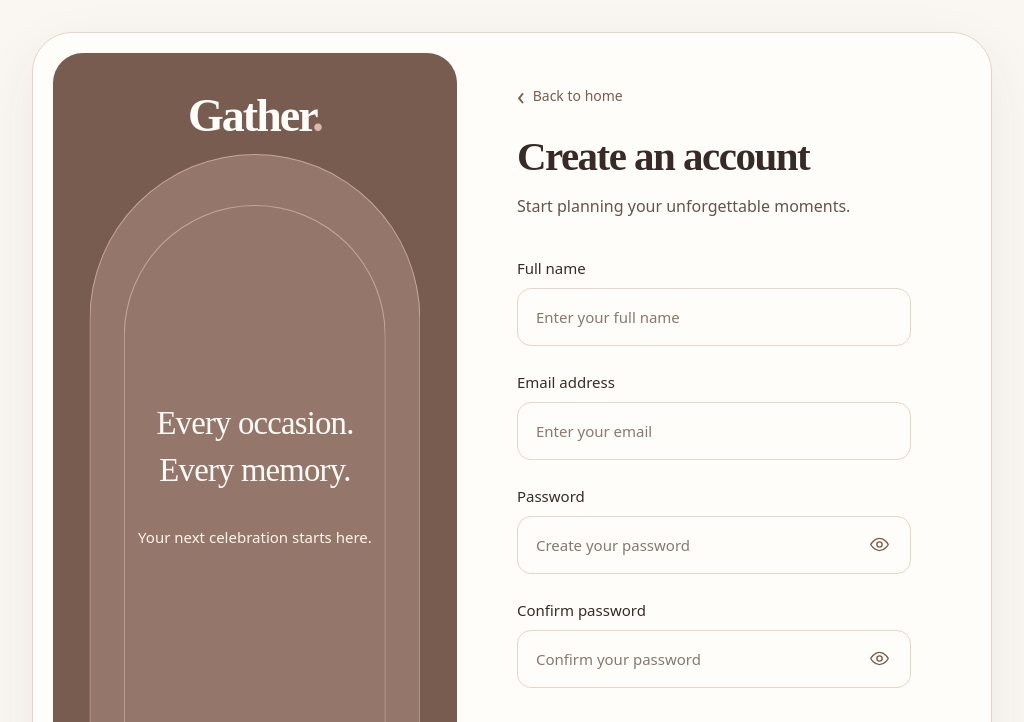
Registration form › rejects mismatched passwords
Type "Test User" into the field labelled "Full name" at {"x": 714, "y": 317}, box [517, 288, 911, 346]
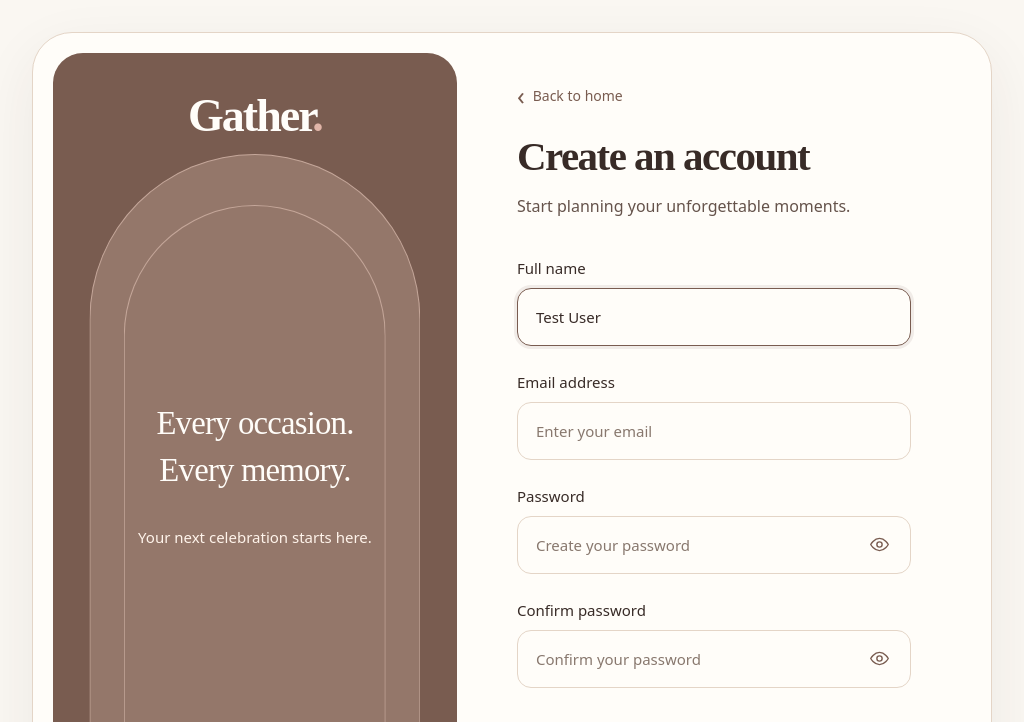
Type "test@example.com" into the field labelled "Email address" at {"x": 714, "y": 431}, box [517, 402, 911, 460]
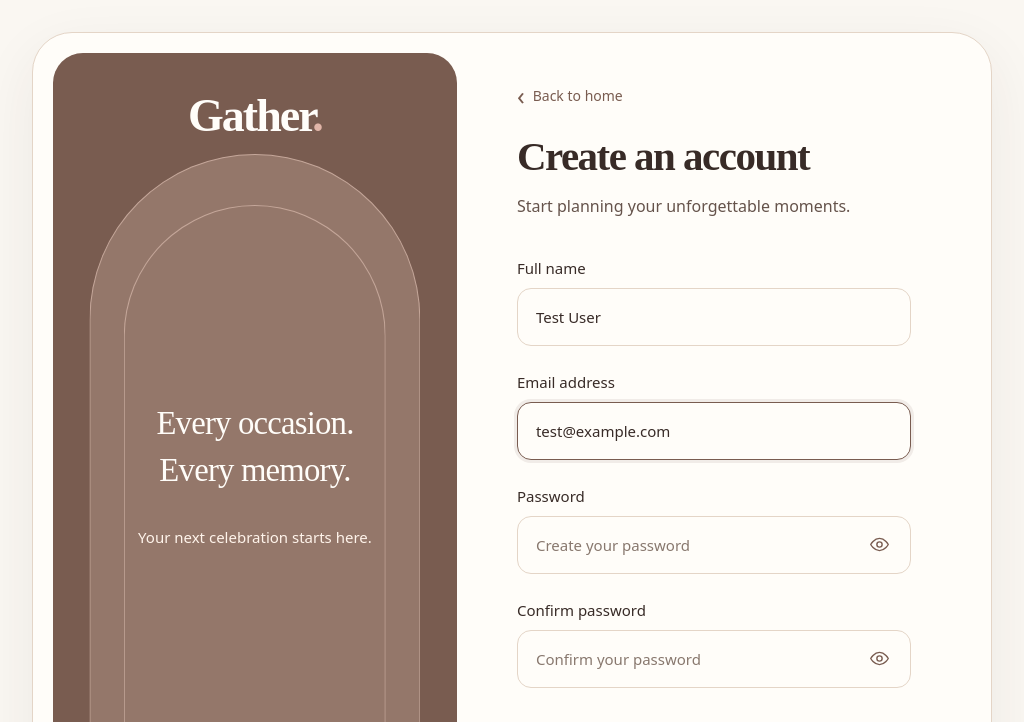
Type "Test1234" into the password field labelled "Password" at {"x": 714, "y": 545}, box [517, 516, 911, 574]
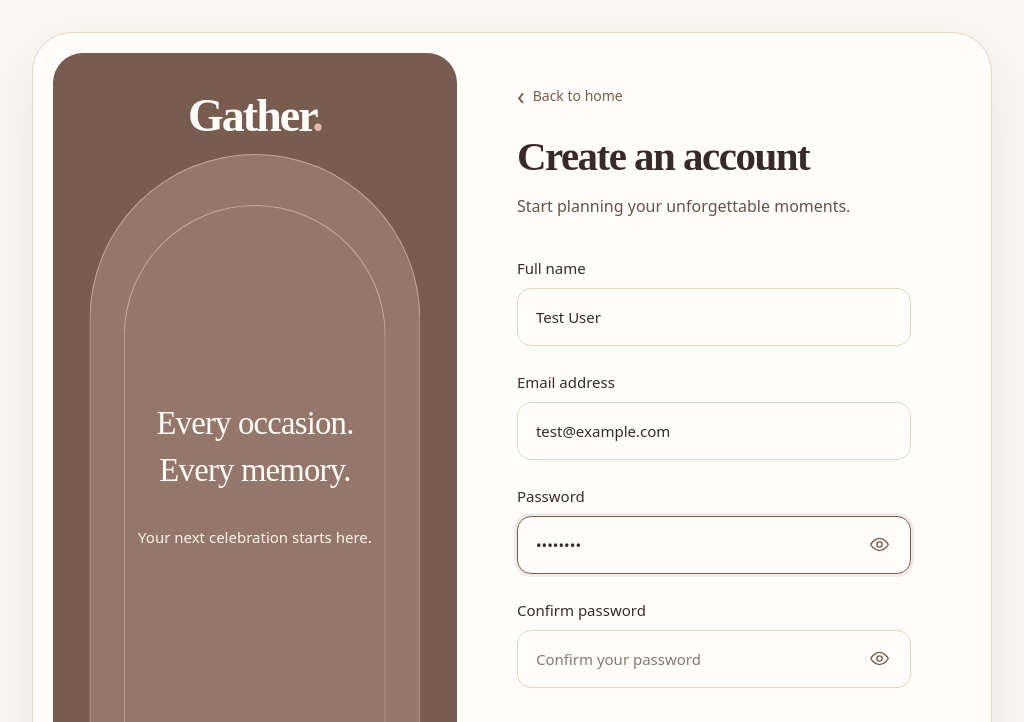
Type "Different123" into the password field labelled "Confirm password" at {"x": 714, "y": 659}, box [517, 630, 911, 688]
(page scrolled)
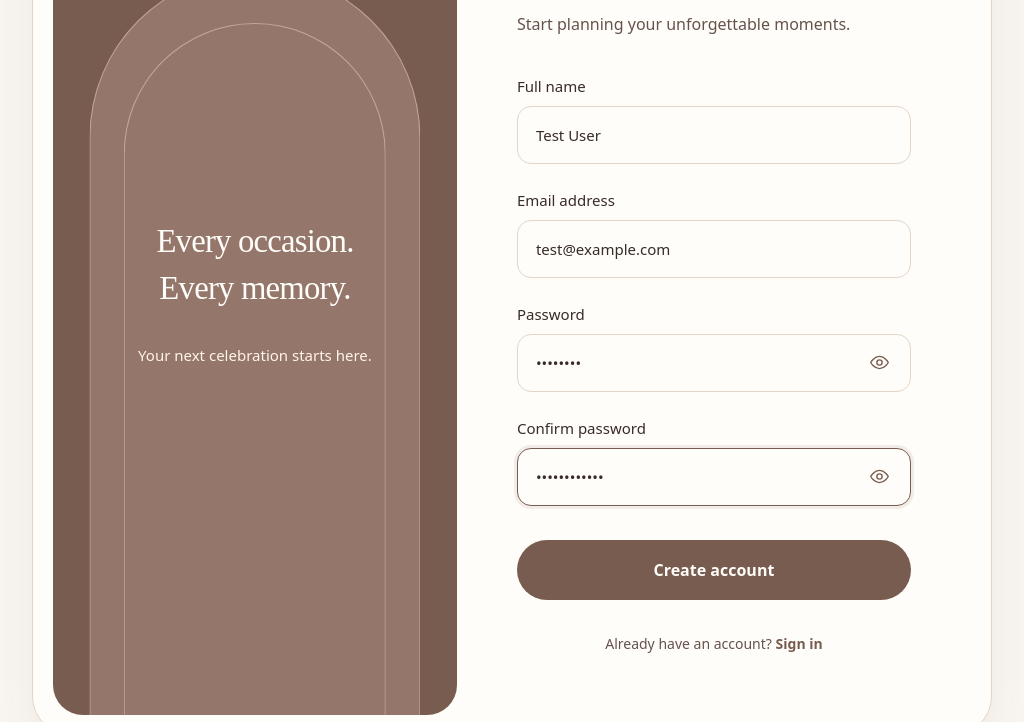
Click the button "Create account" at {"x": 714, "y": 570}, box [517, 540, 911, 600]
(page scrolled)
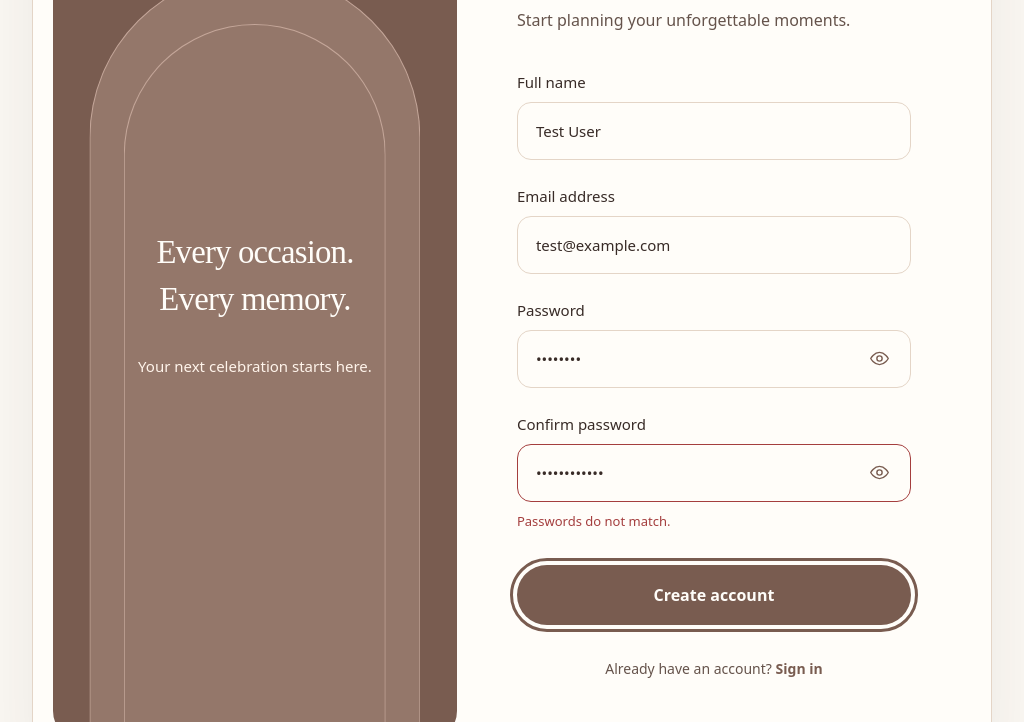
Expected: the text "Passwords do not match." is shown, [517, 512, 670, 530]
